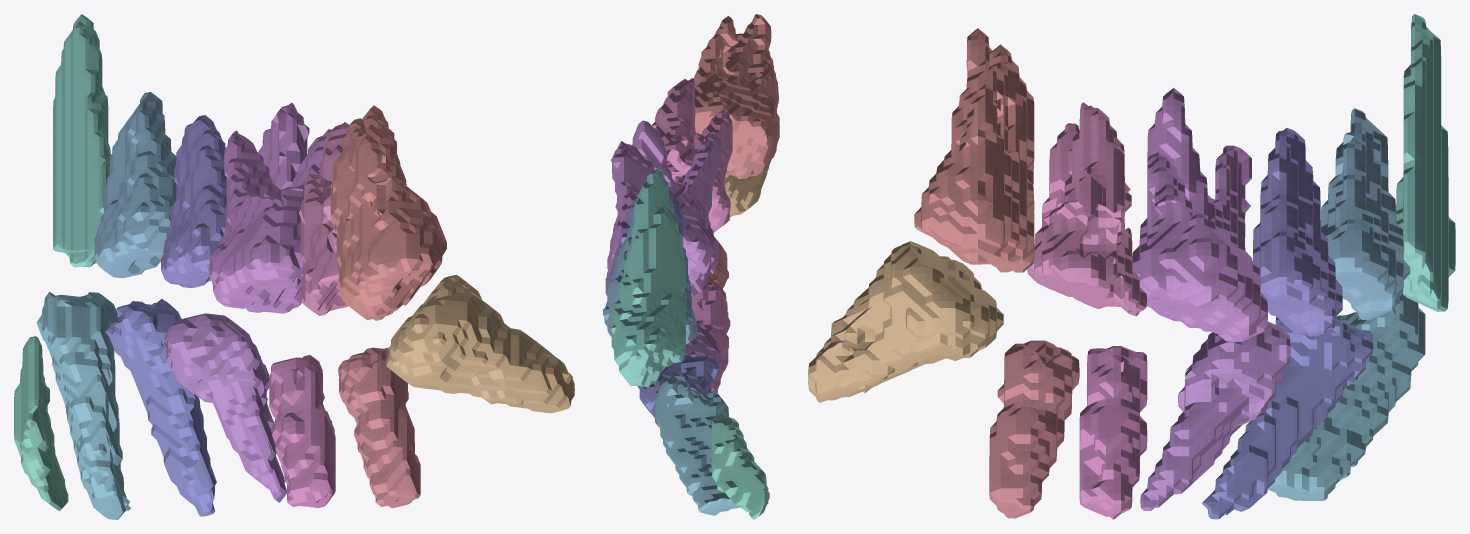
File: STS24_Train_Labeled_0002.glb
3 renders of one model, left to right at view 1: azimuth 30°, elevation 25°; view 2: azimuth 150°, elevation 25°; view 3: azimuth 270°, elevation 25°, orthographic. The views are drawn at different scales.
Parts seen in each view (by area): view 1: teeth__28, teeth__26, teeth__38, teeth__33, teeth__23, teeth__35, teeth__24, teeth__34, teeth__37, teeth__25, teeth__36, teeth__27 (+1 smaller); view 2: teeth__23, teeth__28, teeth__26, teeth__33, teeth__27, teeth__32, teeth__36, teeth__34, teeth__24, teeth__38, teeth__25, teeth__35 (+1 smaller); view 3: teeth__26, teeth__28, teeth__38, teeth__27, teeth__34, teeth__35, teeth__23, teeth__25, teeth__24, teeth__33, teeth__37, teeth__36.
Part boxes in pixels (box(x1,y1,x2,y2)): teeth__28: box(330, 105, 446, 320); teeth__26: box(209, 102, 331, 313); teeth__38: box(386, 275, 574, 413); teeth__33: box(36, 292, 130, 519); teeth__23: box(53, 14, 110, 267); teeth__35: box(164, 313, 286, 502); teeth__24: box(94, 92, 176, 278); teeth__34: box(105, 299, 216, 516); teeth__37: box(338, 347, 420, 508); teeth__25: box(161, 115, 226, 288); teeth__36: box(269, 355, 335, 507); teeth__27: box(298, 122, 349, 315); teeth__23: box(610, 169, 685, 387); teeth__28: box(693, 14, 779, 178); teeth__26: box(606, 120, 722, 295); teeth__33: box(655, 375, 738, 515); teeth__27: box(651, 78, 732, 232); teeth__32: box(711, 417, 769, 519); teeth__36: box(692, 285, 730, 392); teeth__34: box(637, 353, 718, 427); teeth__24: box(603, 211, 696, 344); teeth__38: box(724, 166, 769, 217); teeth__25: box(605, 189, 690, 295); teeth__35: box(686, 323, 723, 389); teeth__26: box(1132, 88, 1267, 342); teeth__28: box(914, 28, 1034, 272); teeth__38: box(808, 241, 1003, 402); teeth__27: box(1027, 102, 1146, 316); teeth__34: box(1202, 317, 1373, 519); teeth__35: box(1140, 321, 1290, 510); teeth__23: box(1396, 14, 1455, 311); teeth__25: box(1252, 128, 1342, 336); teeth__24: box(1320, 108, 1410, 319); teeth__33: box(1268, 294, 1425, 500); teeth__37: box(989, 340, 1079, 518); teeth__36: box(1079, 346, 1147, 519).
Size of the model in its own units: 31.72 by 45.51 by 51.55.
